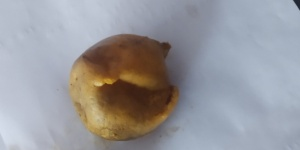BAD: (68, 35, 179, 139)
